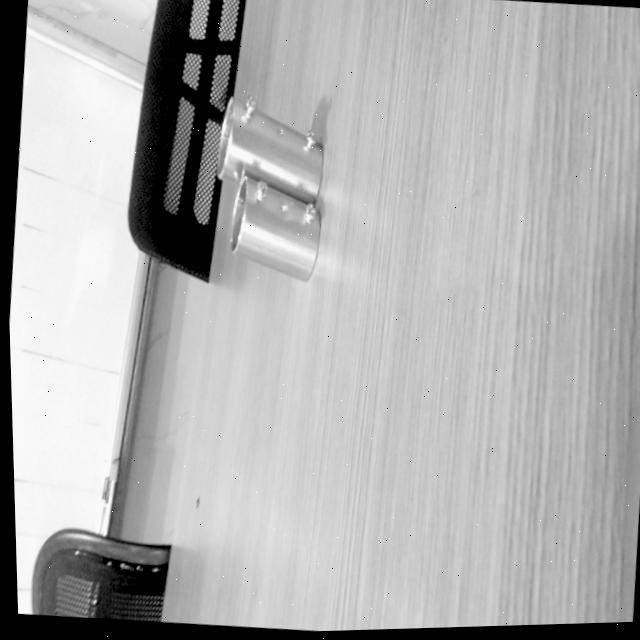Co_Lon: (206, 94, 336, 205)
Co_Nho: (214, 174, 334, 283)
